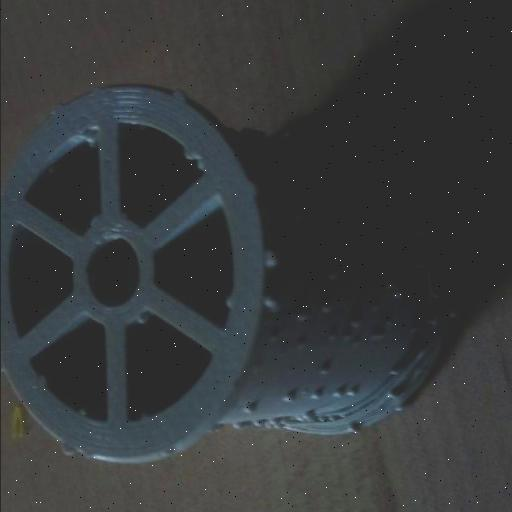blobs: (256, 244, 278, 272), (284, 206, 304, 228), (317, 262, 337, 282), (260, 290, 278, 312), (318, 296, 336, 318), (170, 84, 188, 106), (388, 286, 406, 307), (132, 311, 152, 329), (288, 306, 308, 324), (56, 442, 76, 460), (444, 302, 460, 324), (179, 142, 195, 164), (384, 386, 402, 404), (312, 362, 330, 378), (75, 404, 91, 422), (394, 250, 410, 267), (230, 418, 245, 436), (219, 294, 237, 308), (328, 384, 342, 402), (302, 409, 320, 423), (388, 404, 406, 418), (346, 318, 364, 332), (320, 206, 338, 220), (238, 402, 256, 416), (36, 374, 49, 392), (294, 335, 306, 354), (386, 364, 400, 380), (346, 383, 359, 399), (46, 165, 59, 181), (280, 390, 294, 404), (344, 424, 358, 438), (323, 330, 337, 344), (370, 332, 384, 346), (382, 278, 396, 292), (248, 416, 262, 430), (309, 386, 321, 402), (368, 301, 380, 316)
